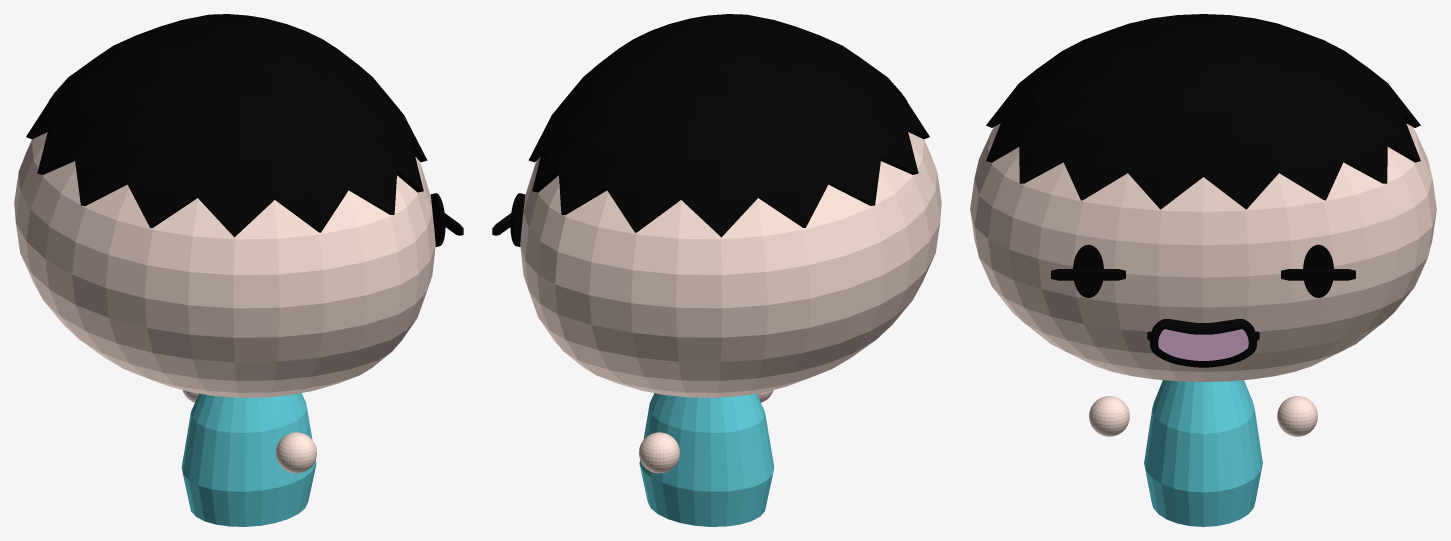
The model's file is minimeV2_2.glb.
3 renders of one model, left to right at view 1: azimuth 30°, elevation 25°; view 2: azimuth 150°, elevation 25°; view 3: azimuth 270°, elevation 25°, orthographic.
Parts seen in each view (by area): view 1: head.001, hair.001, body.001, hands.001, eyes.001; view 2: head.001, hair.001, body.001, hands.001, eyes.001; view 3: head.001, hair.001, body.001, mouth.001, hands.001, eyes.001, closed_eyes.001.
Part boxes in pixels (bbox=[...]): head.001: bbox=[14, 132, 435, 397]; hair.001: bbox=[26, 14, 427, 237]; body.001: bbox=[181, 393, 316, 526]; hands.001: bbox=[182, 390, 316, 473]; eyes.001: bbox=[430, 193, 445, 246]; head.001: bbox=[520, 132, 941, 397]; hair.001: bbox=[528, 14, 929, 237]; body.001: bbox=[639, 393, 774, 526]; hands.001: bbox=[639, 390, 773, 473]; eyes.001: bbox=[510, 193, 525, 246]; head.001: bbox=[970, 123, 1436, 381]; hair.001: bbox=[986, 14, 1420, 209]; body.001: bbox=[1144, 380, 1262, 526]; mouth.001: bbox=[1150, 319, 1256, 367]; hands.001: bbox=[1089, 396, 1317, 436]; eyes.001: bbox=[1073, 244, 1333, 297]; closed_eyes.001: bbox=[1051, 269, 1355, 280].
Size of the model in its own units: 1.71 by 2.17 by 2.
